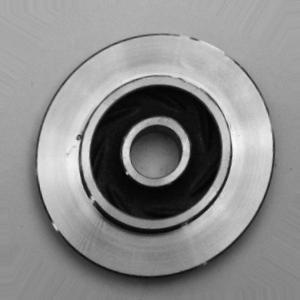crack: (70, 128, 87, 145)
scratch: (171, 27, 242, 63), (78, 189, 113, 217)
unpolished_casting: (30, 30, 276, 282)
